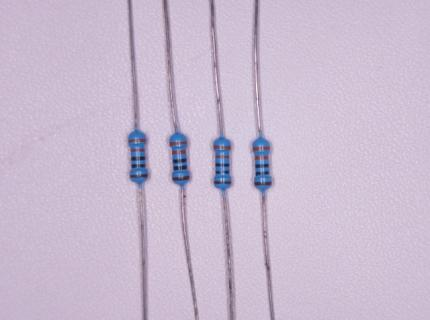Black band: (131, 164, 145, 169), (173, 158, 187, 163), (174, 165, 187, 170), (131, 157, 146, 161), (255, 164, 268, 168), (216, 163, 229, 166), (216, 171, 229, 174), (256, 172, 269, 175)
Brown band: (172, 176, 189, 181), (254, 181, 271, 186), (131, 174, 148, 178), (214, 181, 231, 184)
Orange band: (253, 146, 270, 151), (170, 141, 186, 146), (172, 149, 186, 154), (255, 155, 269, 160), (214, 145, 231, 149), (131, 148, 145, 152), (129, 139, 146, 142), (216, 155, 229, 158)
